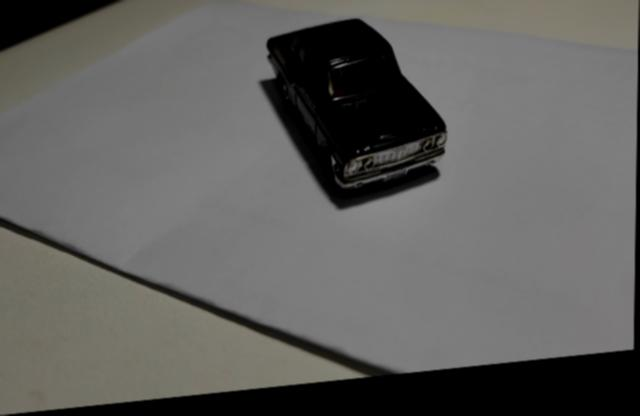01_FORD: (267, 27, 449, 202)
